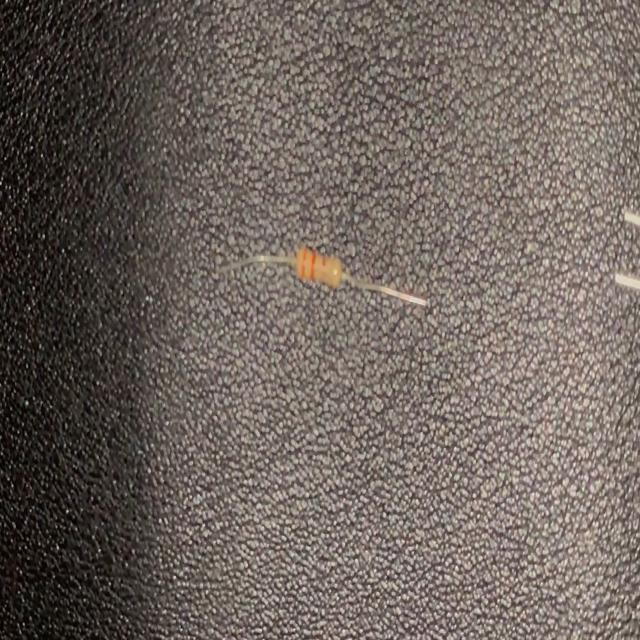faded: (320, 251, 340, 291)
resistor: (214, 244, 430, 322)
